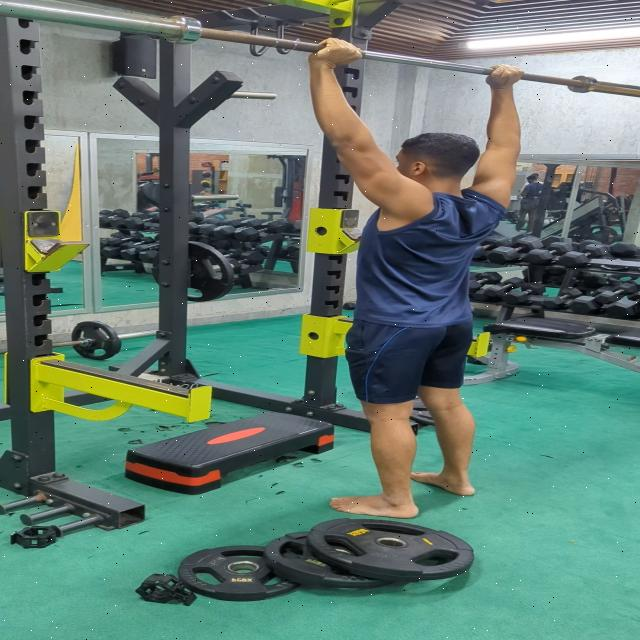Normal_OverheadPress: (255, 24, 539, 524)
